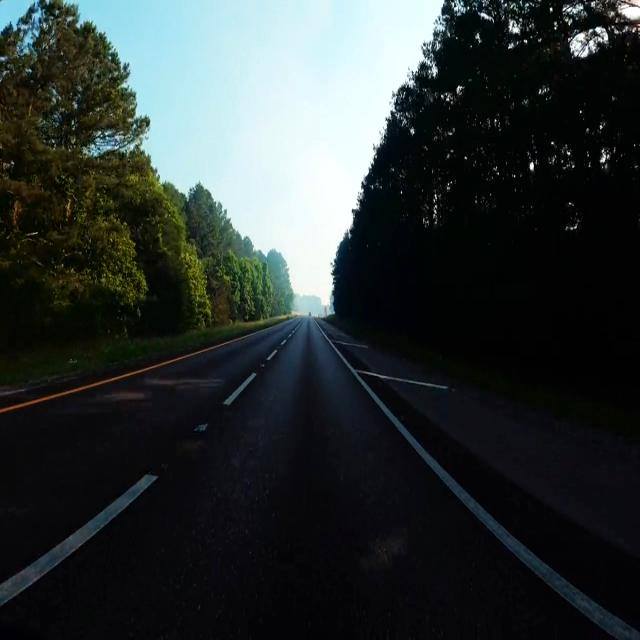road: (0, 319, 605, 637)
